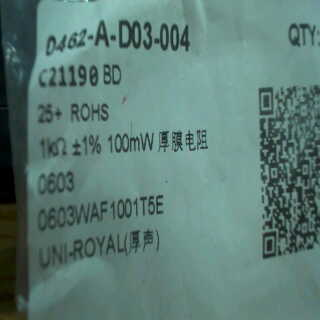1kR: (33, 134, 71, 160)
